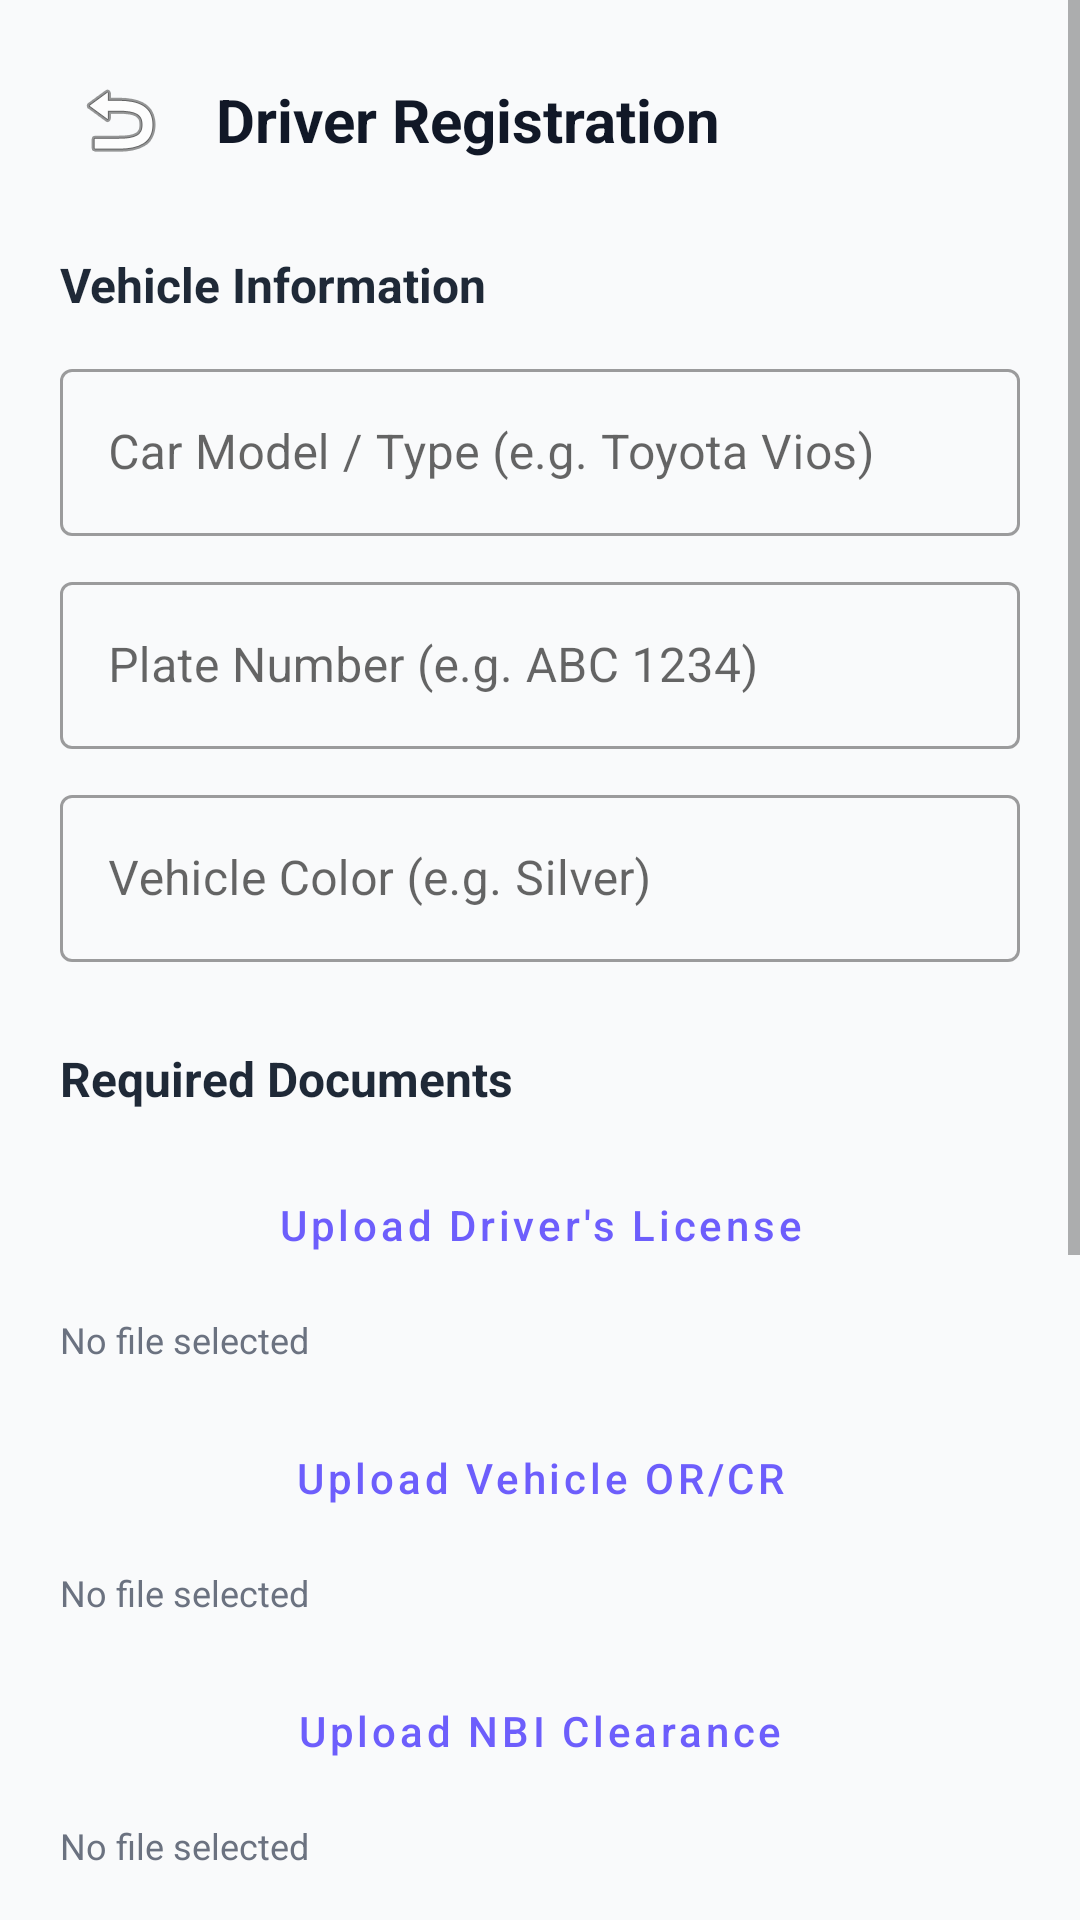

Point at icon controls on the screen. Image size 1080x1920, points as (x=x, y=y).
Return: (x=121, y=120)
